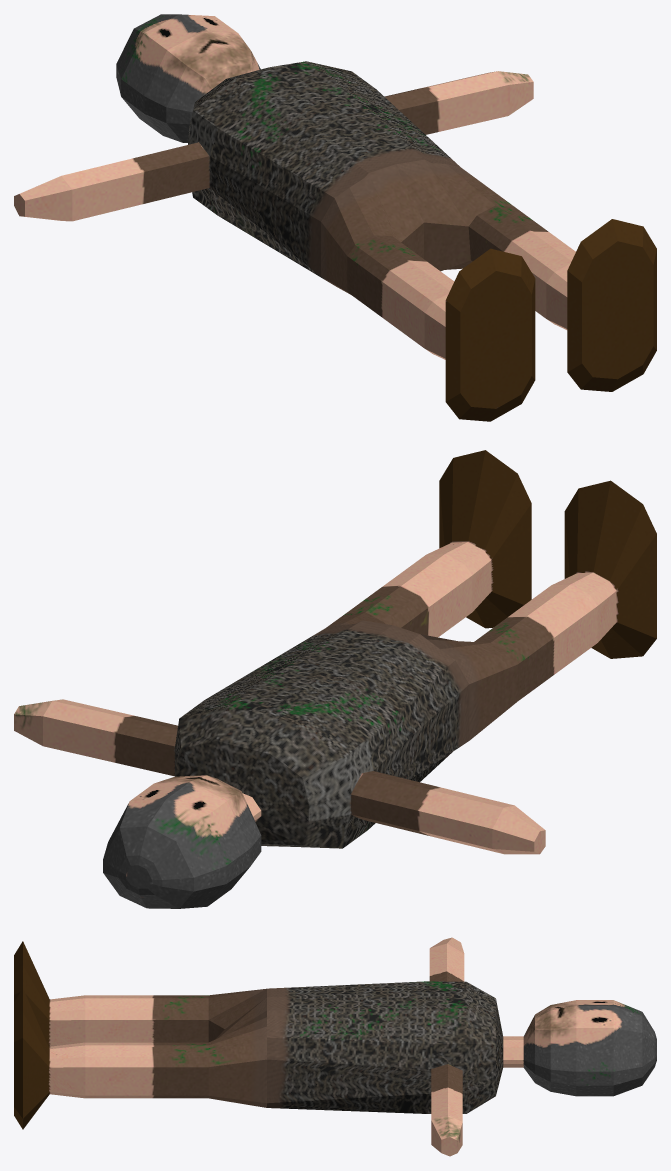
File: ALDEANO.obj
The picture shows the model from 3 angles, top to bottom: view 1: azimuth 30°, elevation 25°; view 2: azimuth 150°, elevation 25°; view 3: azimuth 270°, elevation 25°; orthographic projection. The views are drawn at different scales.
Visible parts, largest first — view 1: Plane.000_Plane.003; view 2: Plane.000_Plane.003; view 3: Plane.000_Plane.003.
Part boxes in pixels (bbox=[...]): Plane.000_Plane.003: bbox=[14, 14, 656, 421]; Plane.000_Plane.003: bbox=[14, 450, 656, 908]; Plane.000_Plane.003: bbox=[14, 937, 656, 1156].
Bounding box in the file's own units: 4.17 × 1.36 × 5.75.
Materials: 1 (1 with a texture image).
